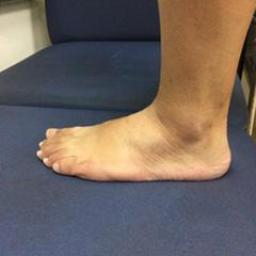Lateral View -Left Foot-: (32, 81, 238, 197)
